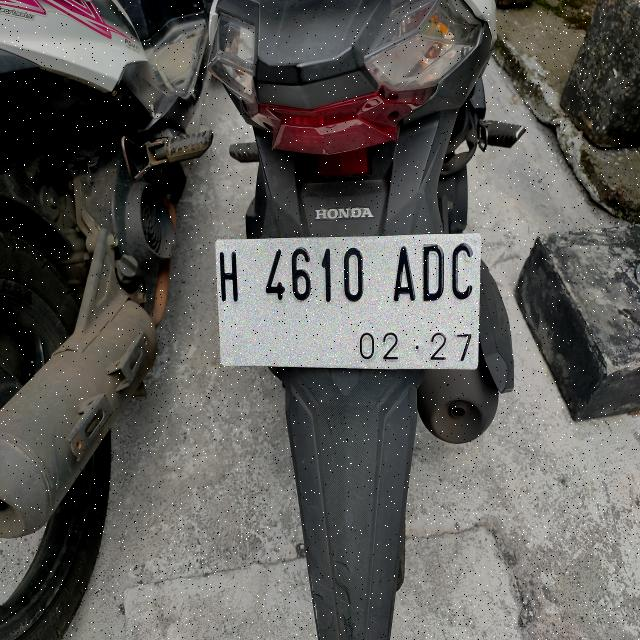plate: (216, 234, 480, 368)
